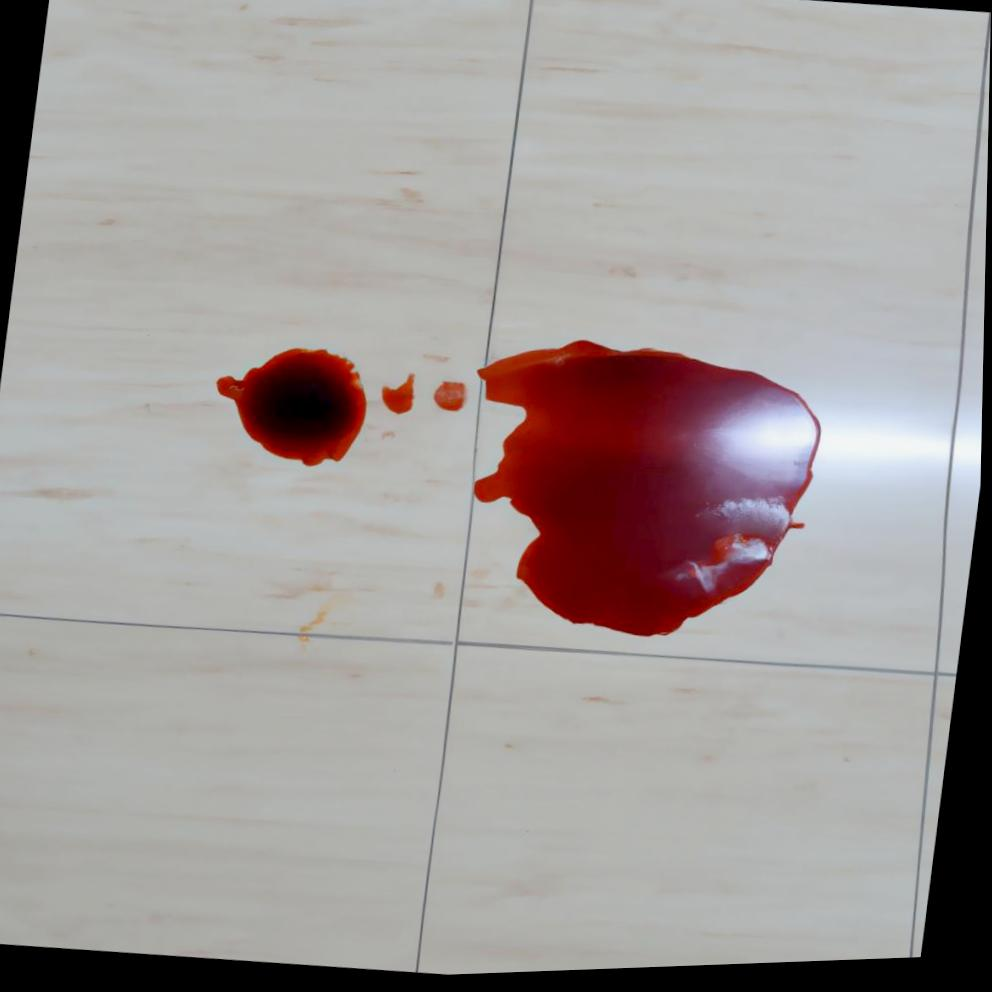Fire: (476, 344, 825, 642), (218, 350, 369, 468), (384, 376, 418, 418), (435, 384, 471, 415)
